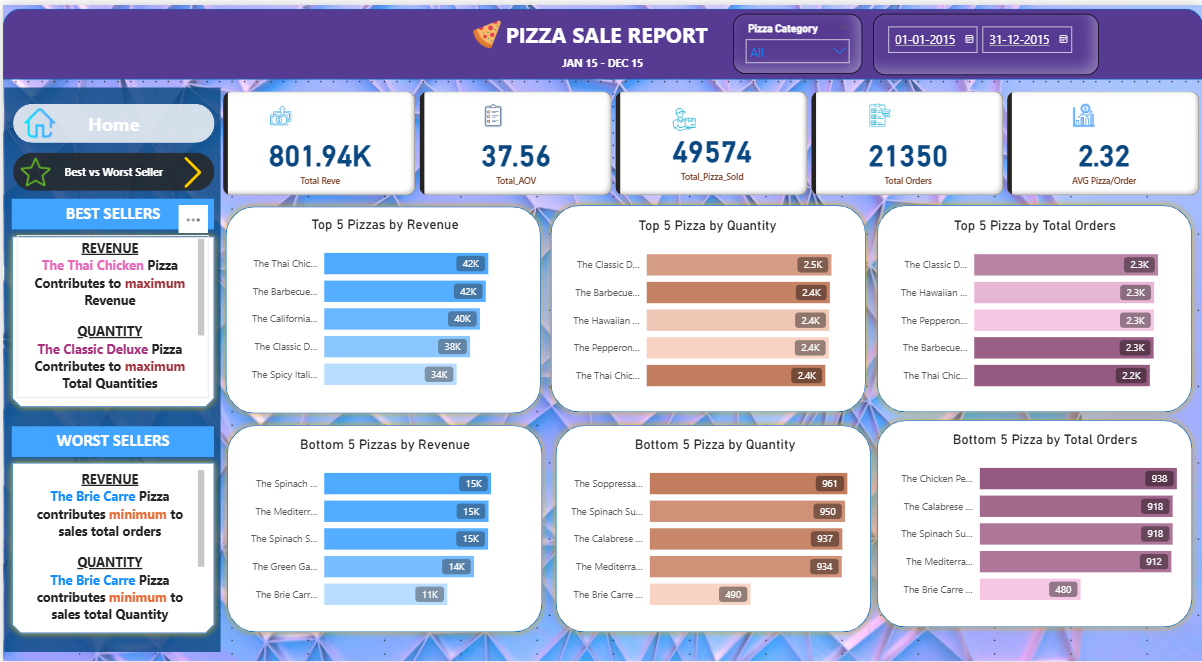

This screenshot's page, from the dashboard's own definition file:
{"tool":"powerbi","page":{"name":"Best vs Worst Seller","canvas":[1500,820],"ordinal":1},"visuals":[{"type":"cardVisual","fields":{"Data":["pizza_sales.Total Reve","pizza_sales.Total_AVG_AOV","pizza_sales.Total_Pizza_Sold","pizza_sales.Total Orders","pizza_sales.AVG Pizza/Order"]},"box":[270,102.9,1230,140],"z":0},{"type":"shape","box":[0,4.3,1500,88.6],"z":1000},{"type":"textbox","box":[622.9,14.3,347.1,60],"z":2000},{"type":"textbox","box":[694.3,57.1,122.9,35.7],"z":3000},{"type":"image","box":[574.3,14.3,60,45.7],"z":4000},{"type":"shape","box":[270,243.3,410,275],"z":5000},{"type":"shape","box":[1.5,102.9,270.6,705.9],"z":6000},{"type":"textbox","box":[10.3,242.6,252.9,38.2],"z":7000},{"type":"shape","box":[2.9,280.9,269.1,229.4],"z":8000},{"type":"textbox","box":[17.6,286.8,239.7,204.4],"z":9000},{"type":"textbox","box":[10.3,526.5,252.9,38.2],"z":10000},{"type":"shape","box":[2.9,564.7,269.1,229.4],"z":11000},{"type":"slicer","fields":{"Values":["pizza_sales.pizza_category"]},"box":[913.2,10.3,161.8,75],"z":12000},{"type":"slicer","fields":{"Values":["pizza_sales.order_date"]},"box":[1086.8,10.3,282.4,76.5],"z":13000},{"type":"textbox","box":[17.6,576.5,239.7,204.4],"z":14000},{"type":"shape","box":[676.5,242.6,410,275],"z":15000},{"type":"shape","box":[1083.8,242.6,410,275],"z":16000},{"type":"shape","box":[272.1,517.6,410.3,275],"z":17000},{"type":"shape","box":[682.4,517.6,410.3,275],"z":18000},{"type":"shape","box":[1083.8,510.3,410.3,275],"z":19000},{"type":"barChart","title":"Top 5 Pizzas by Revenue","fields":{"Category":["pizza_sales.pizza_name"],"Y":["pizza_sales.Total Reve"]},"box":[294.1,264.7,367.6,230.9],"z":20000},{"type":"barChart","title":"Bottom 5 Pizzas by Revenue","fields":{"Category":["pizza_sales.pizza_name"],"Y":["pizza_sales.Total Reve"]},"box":[294.1,539.7,367.6,230.9],"z":21000},{"type":"barChart","title":"Top 5 Pizza by Quantity","fields":{"Category":["pizza_sales.pizza_name"],"Y":["pizza_sales.Total_Pizza_Sold"]},"box":[697.1,266.2,367.6,230.9],"z":22000},{"type":"barChart","title":"Bottom 5 Pizza by Quantity","fields":{"Category":["pizza_sales.pizza_name"],"Y":["pizza_sales.Total_Pizza_Sold"]},"box":[694.1,539.7,392.6,230.9],"z":23000},{"type":"barChart","title":"Top 5 Pizza by Total Orders","fields":{"Category":["pizza_sales.pizza_name"],"Y":["pizza_sales.Total Orders"]},"box":[1105.9,266.2,367.6,230.9],"z":24000},{"type":"barChart","title":"Bottom 5 Pizza by Total Orders","fields":{"Category":["pizza_sales.pizza_name"],"Y":["pizza_sales.Total Orders"]},"box":[1105.9,532.4,392.6,230.9],"z":25000},{"type":"pageNavigator","box":[11.8,123.5,252.9,50],"z":26000},{"type":"pageNavigator","box":[11.8,183.8,252.9,48.5],"z":27000},{"type":"image","box":[210.3,183.8,52.9,50],"z":28000},{"type":"image","box":[17.6,123.5,57.4,48.5],"z":29000},{"type":"image","box":[17.6,183.8,47.1,48.5],"z":30000}]}

Visuals, with their boxes in screenshot pixels (x1, y1, x2, y2), scaled from the page's 1500x820 canvas onto the 1202x662 screenshot:
cardVisual - pizza_sales.Total Reve x pizza_sales.Total_AVG_AOV: select_region(216, 83, 1201, 196)
shape: select_region(0, 3, 1201, 75)
textbox: select_region(499, 12, 777, 60)
textbox: select_region(556, 46, 655, 75)
image: select_region(460, 12, 508, 48)
shape: select_region(216, 196, 545, 418)
shape: select_region(1, 83, 218, 653)
textbox: select_region(8, 196, 211, 227)
shape: select_region(2, 227, 218, 412)
textbox: select_region(14, 232, 206, 397)
textbox: select_region(8, 425, 211, 456)
shape: select_region(2, 456, 218, 641)
slicer - pizza_sales.pizza_category: select_region(732, 8, 861, 69)
slicer - pizza_sales.order_date: select_region(871, 8, 1097, 70)
textbox: select_region(14, 465, 206, 630)
shape: select_region(542, 196, 871, 418)
shape: select_region(868, 196, 1197, 418)
shape: select_region(218, 418, 547, 640)
shape: select_region(547, 418, 876, 640)
shape: select_region(868, 412, 1197, 634)
"Top 5 Pizzas by Revenue" barChart: select_region(236, 214, 530, 400)
"Bottom 5 Pizzas by Revenue" barChart: select_region(236, 436, 530, 622)
"Top 5 Pizza by Quantity" barChart: select_region(559, 215, 853, 401)
"Bottom 5 Pizza by Quantity" barChart: select_region(556, 436, 871, 622)
"Top 5 Pizza by Total Orders" barChart: select_region(886, 215, 1181, 401)
"Bottom 5 Pizza by Total Orders" barChart: select_region(886, 430, 1201, 616)
pageNavigator: select_region(9, 100, 212, 140)
pageNavigator: select_region(9, 148, 212, 188)
image: select_region(169, 148, 211, 189)
image: select_region(14, 100, 60, 139)
image: select_region(14, 148, 52, 188)
